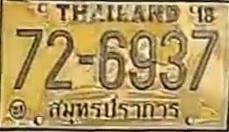2: (44, 29, 74, 90)
3: (158, 28, 188, 90)
6: (98, 29, 126, 90)
7: (189, 28, 219, 91), (14, 28, 42, 90)
9: (128, 30, 156, 90)
SPK: (47, 95, 182, 120)
